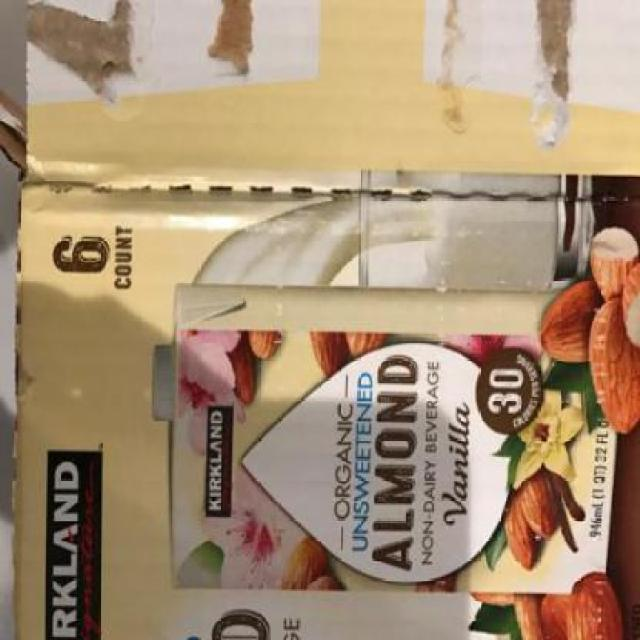CARDBOARD: (14, 1, 638, 638)
